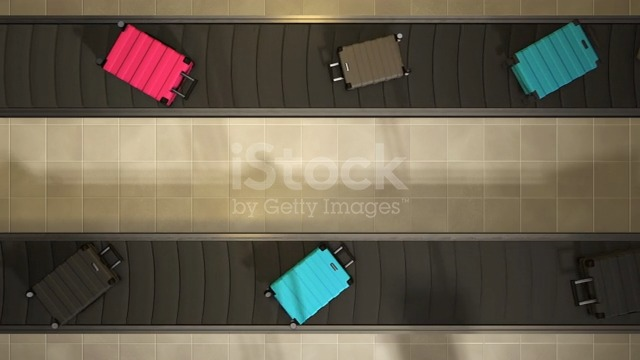Bag: (23, 239, 128, 334), (94, 22, 201, 113), (263, 242, 364, 329), (508, 24, 611, 100), (318, 33, 418, 95), (566, 248, 640, 324)
Handle: (568, 272, 598, 314), (96, 239, 128, 272), (168, 70, 199, 101), (333, 242, 360, 276), (325, 59, 347, 87)
